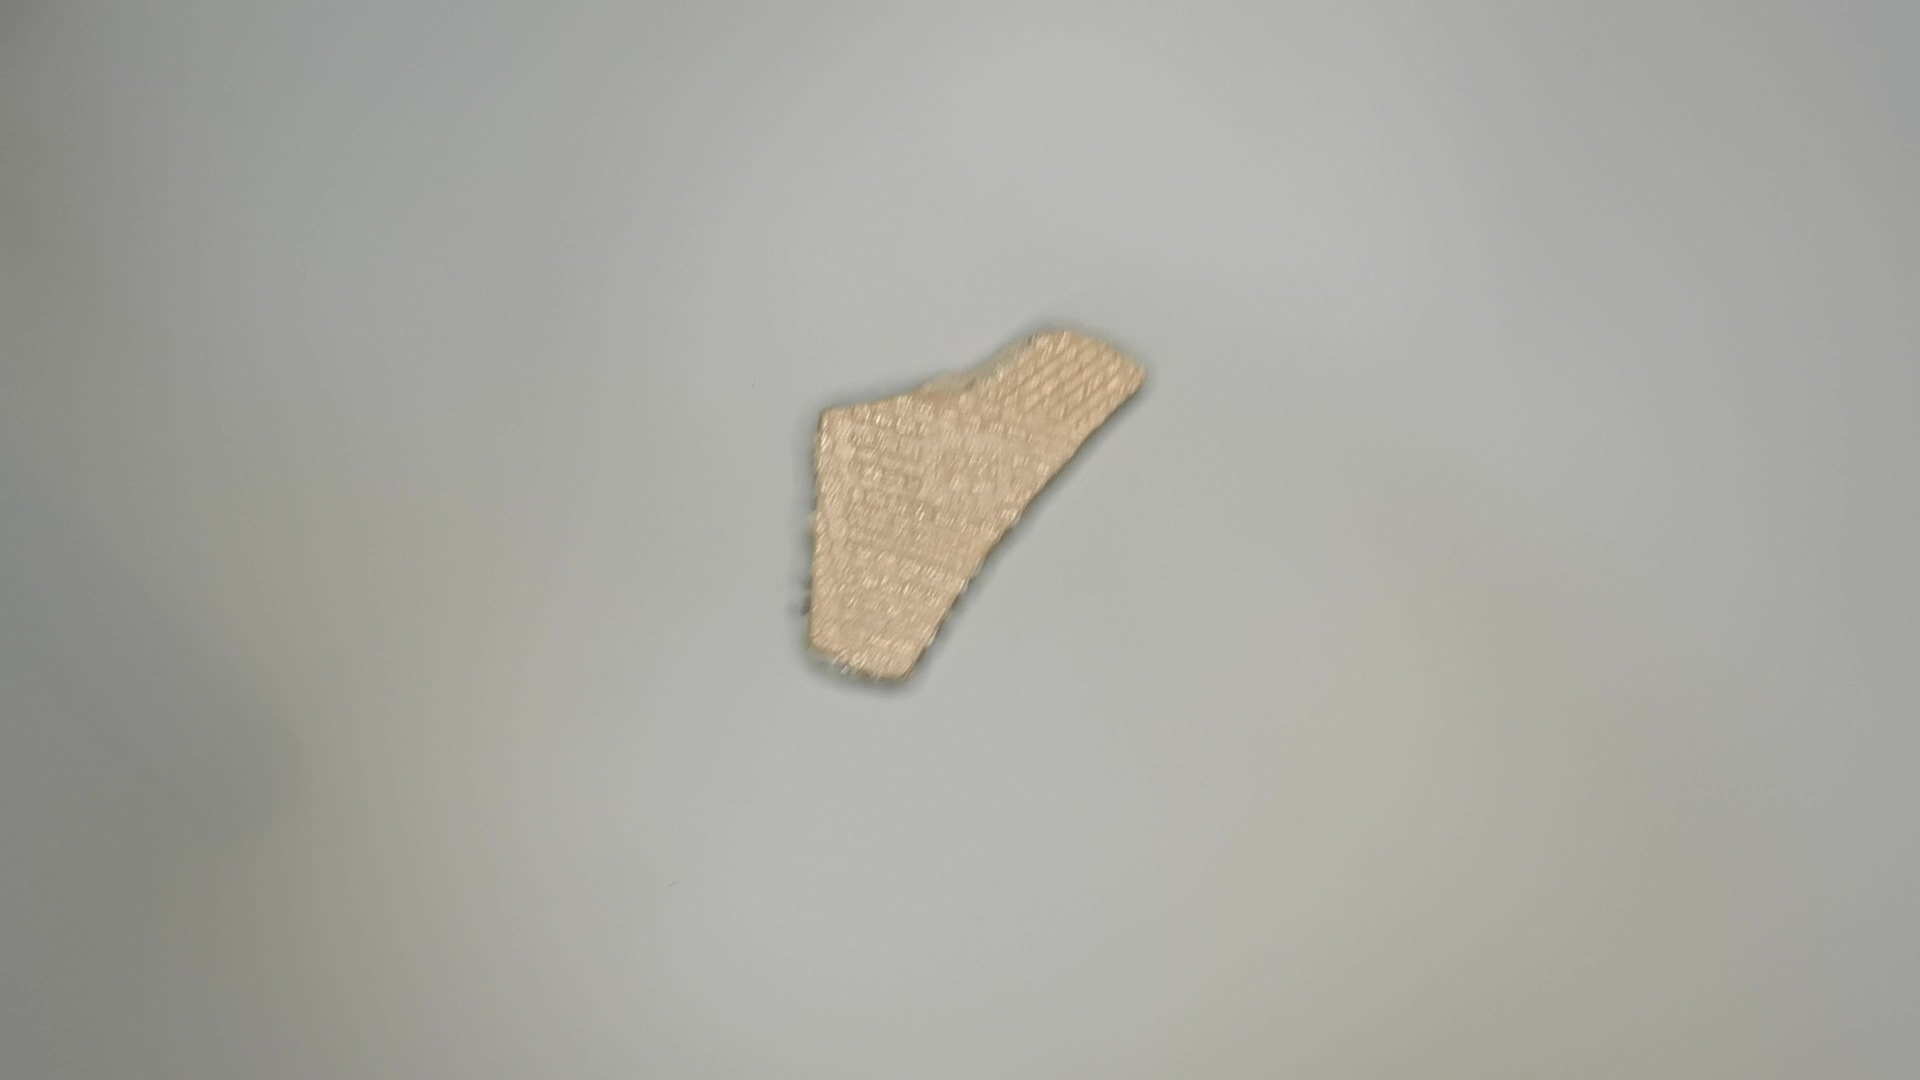ceramic: (796, 316, 1159, 702)
